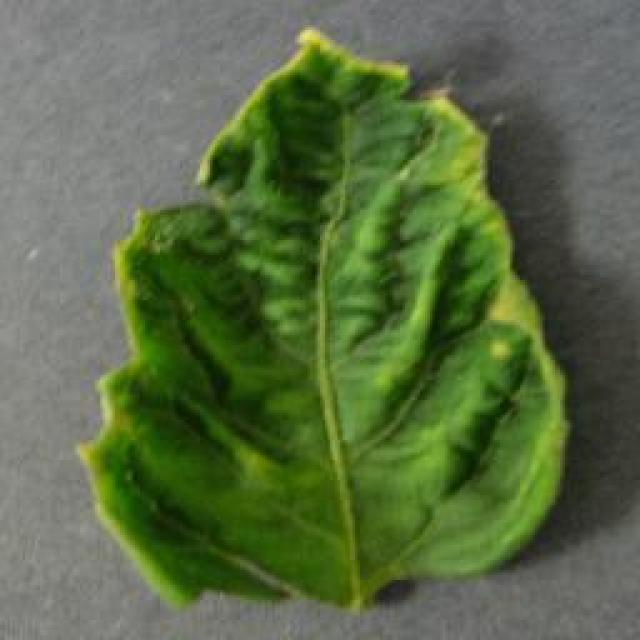Tomato yellow virus leaf: (80, 20, 572, 618)
